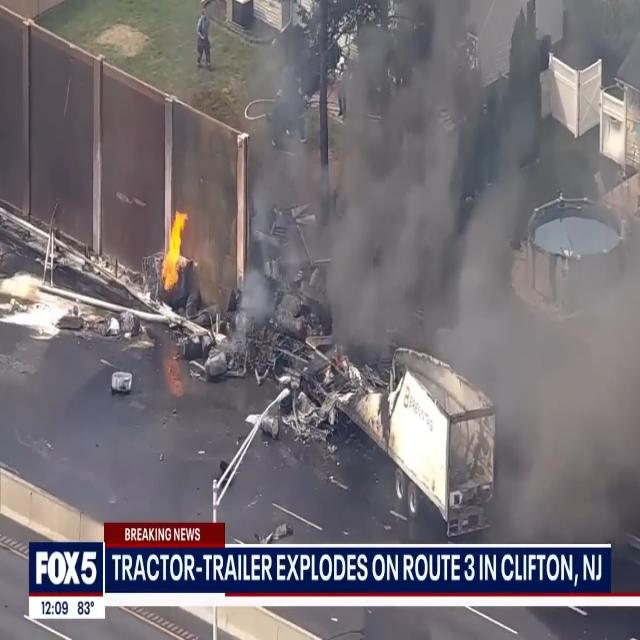fire: (154, 204, 192, 297)
